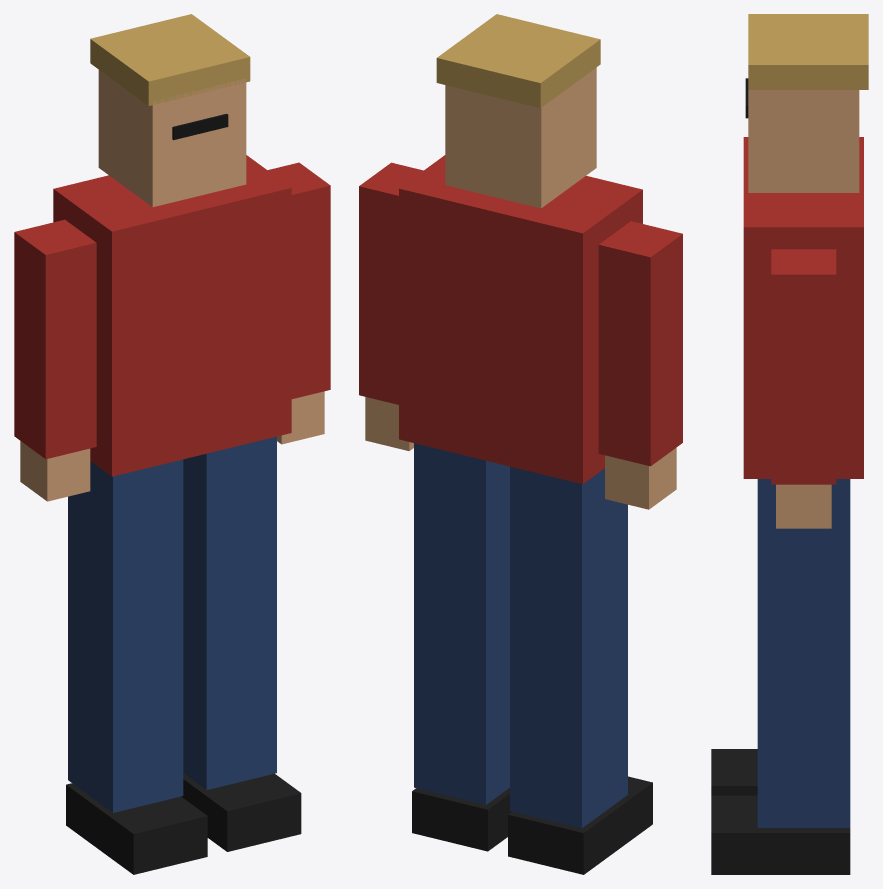
Rendered from ped_0.glb.
3 views of the same model, side by side, from view 1: azimuth 30°, elevation 25°; view 2: azimuth 150°, elevation 25°; view 3: azimuth 270°, elevation 25° (orthographic). The views are drawn at different scales.
Parts seen in each view (by area): view 1: torso, leg_r, leg_l, head, arm_r, arm_l; view 2: torso, leg_r, leg_l, head, arm_r, arm_l; view 3: leg_l, head, torso, arm_l, leg_r.
Part boxes in pixels (x1,y1,x2,y2): torso: [53, 155, 291, 476]; leg_r: [66, 459, 207, 874]; leg_l: [181, 436, 301, 851]; head: [90, 14, 250, 207]; arm_r: [14, 219, 96, 501]; arm_l: [267, 162, 330, 444]; torso: [399, 155, 642, 484]; leg_r: [508, 466, 652, 874]; leg_l: [412, 443, 511, 851]; head: [436, 14, 600, 208]; arm_r: [598, 221, 682, 509]; arm_l: [359, 162, 423, 450]; leg_l: [711, 479, 850, 874]; head: [745, 14, 868, 192]; torso: [743, 137, 863, 478]; arm_l: [771, 249, 836, 528]; leg_r: [711, 749, 757, 795].
Bounding box in the file's own units: 0.73 × 1.89 × 0.34.
